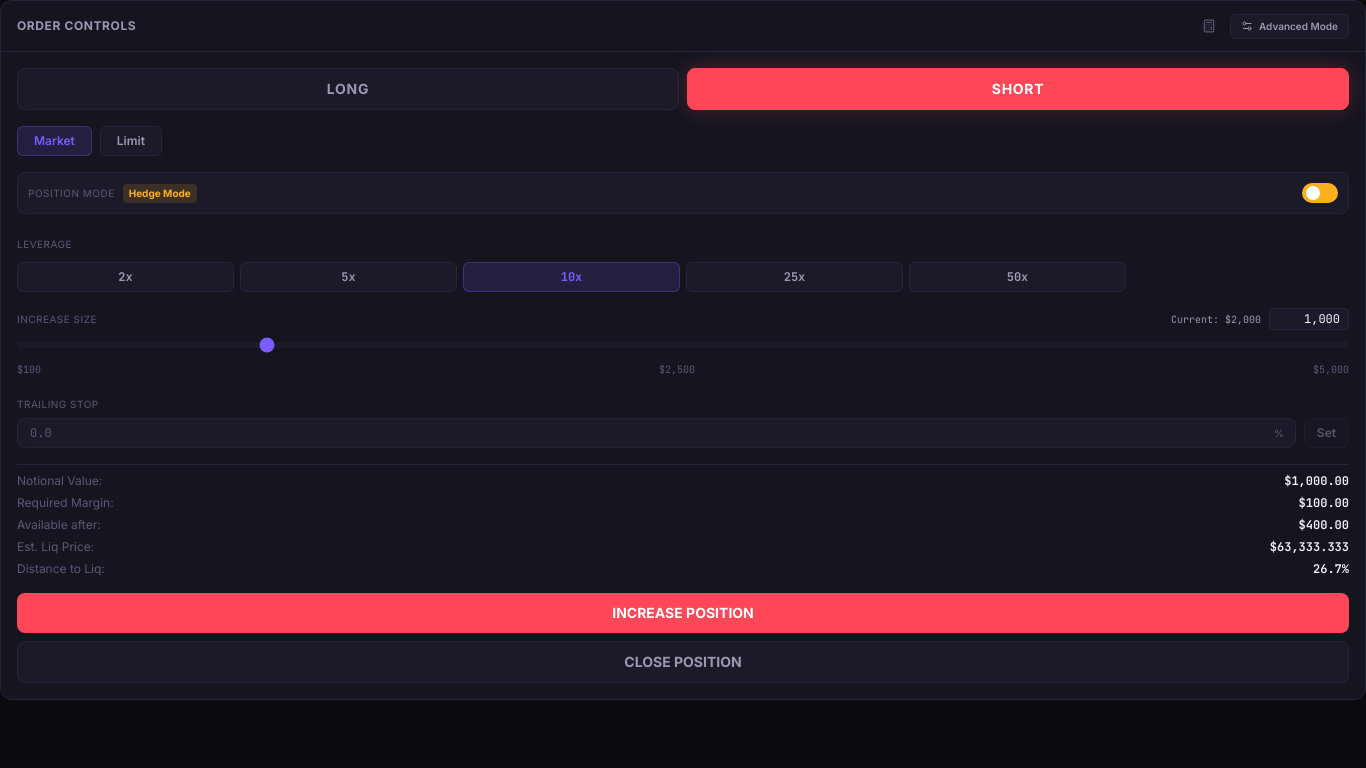
Test case: TradeControls — hedge mode and side preservation › summary shows excess margin only in hedge mode flip
Click the button "LONG" at (348, 89), box top-left (17, 68), bottom-right (679, 110)
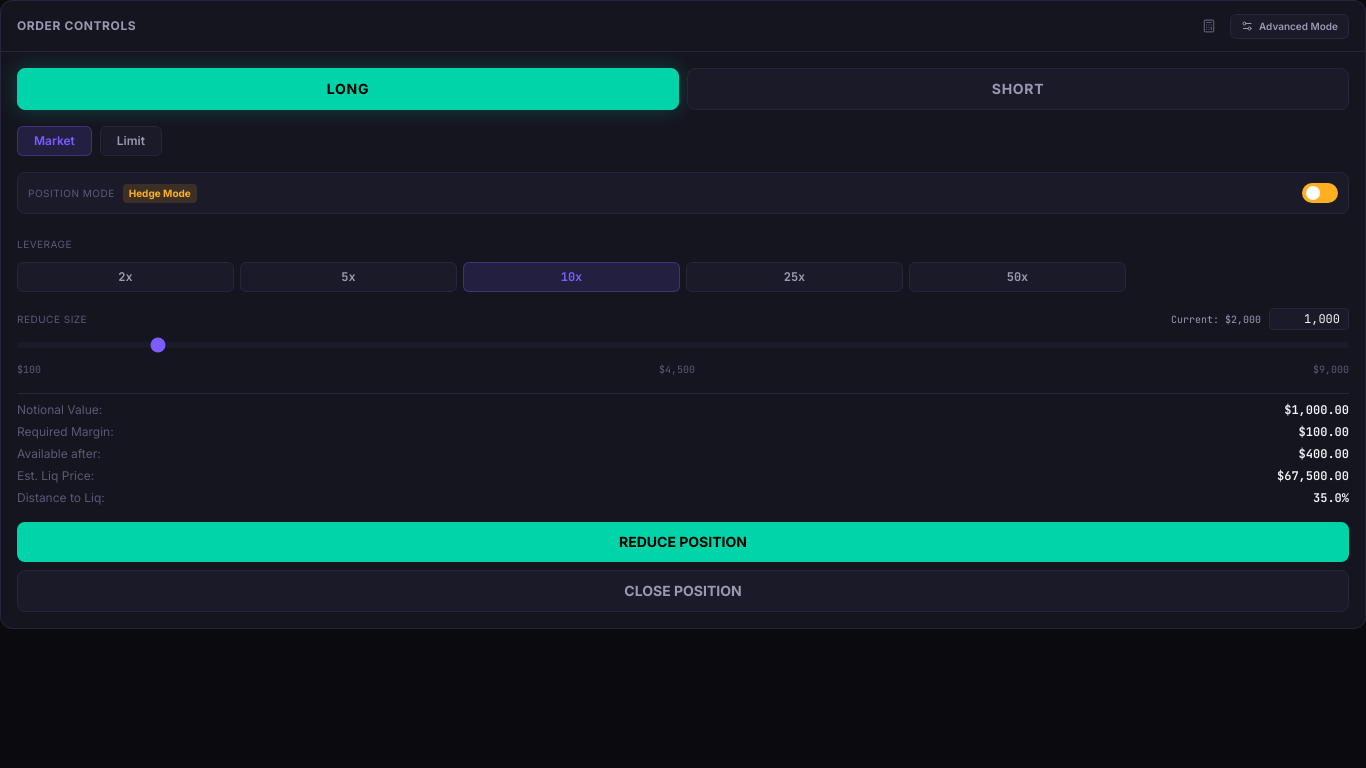
Set the slider to "3000" at (454, 345), box top-left (17, 342), bottom-right (1349, 348)
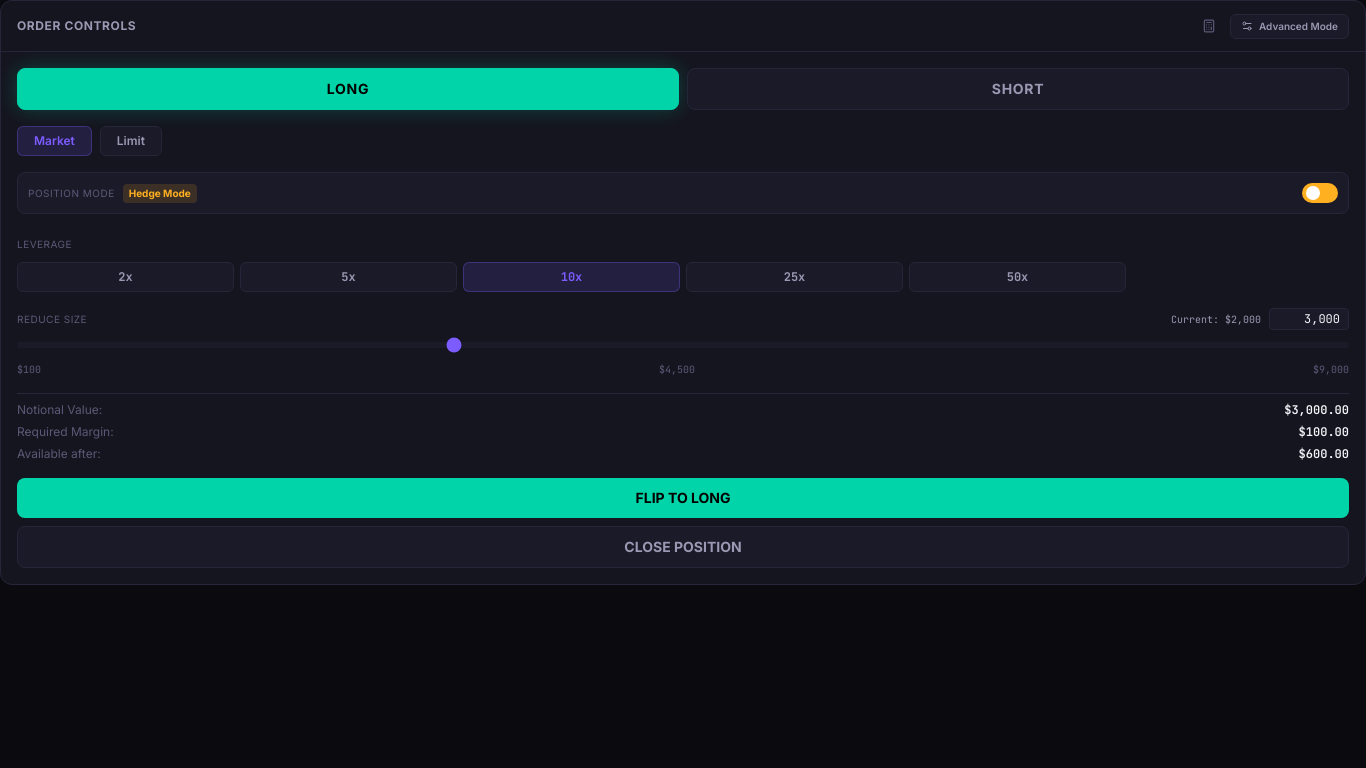
Expected: the text "$100.00" is shown, top-left (1299, 424), bottom-right (1349, 440)
Expected: the text "$600.00" is shown, top-left (1299, 446), bottom-right (1349, 462)
